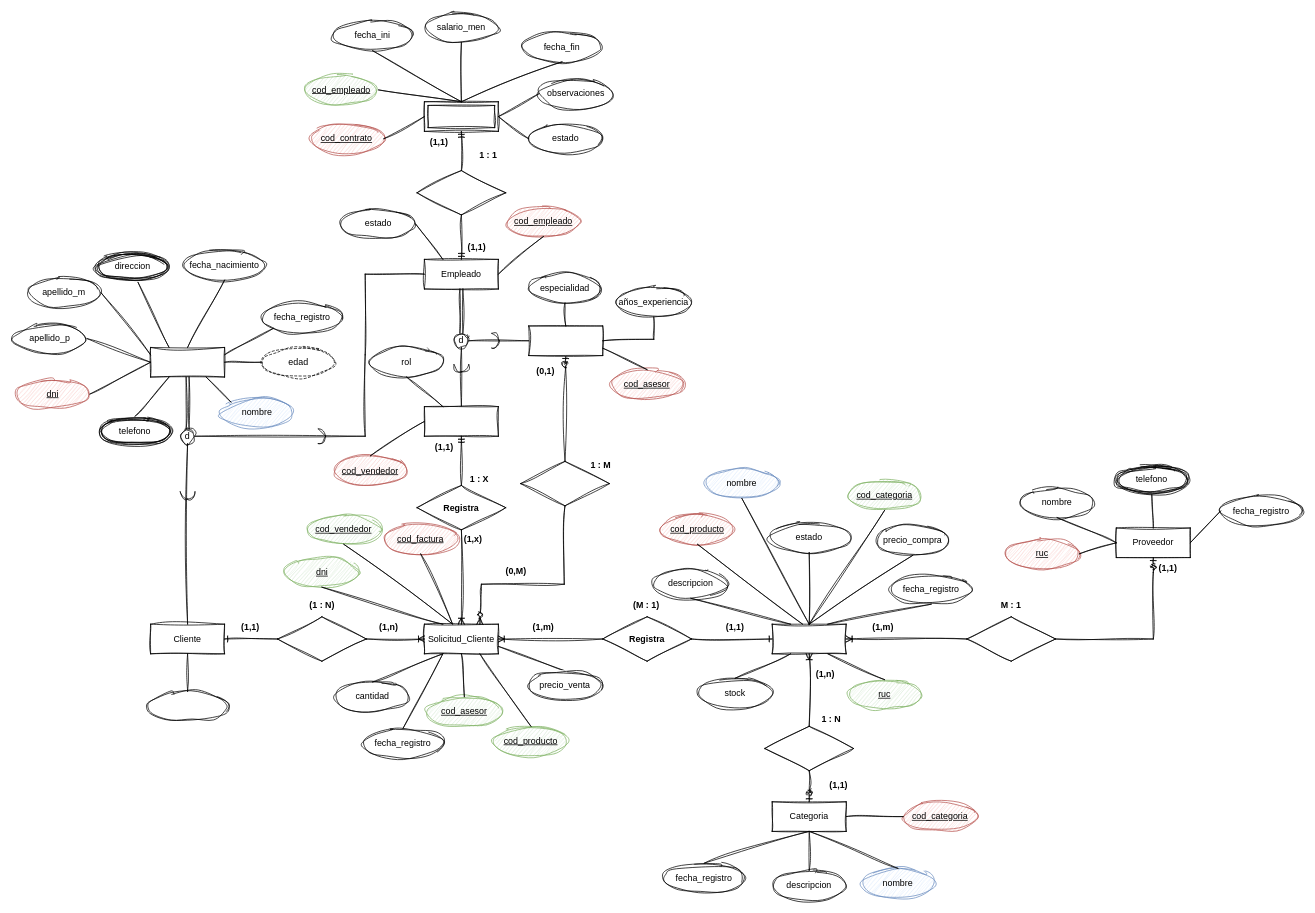
This 1315x913 diagram has some shape labels left out. Here are the shapes that lost their labels. From the top down, the centre of each, then its label:
At (x=461, y=116): "Contrato".
At (x=461, y=192): "Tiene".
At (x=565, y=340): "Asesor".
At (x=187, y=362): "Persona".
At (x=461, y=421): "Vendedor".
At (x=564, y=483): "Asesora".
At (x=321, y=638): "Solicita".
At (x=808, y=638): "Producto".
At (x=1011, y=638): "Suministra".
At (x=187, y=706): "tipo_cliente".
At (x=809, y=748): "Pertenece".
